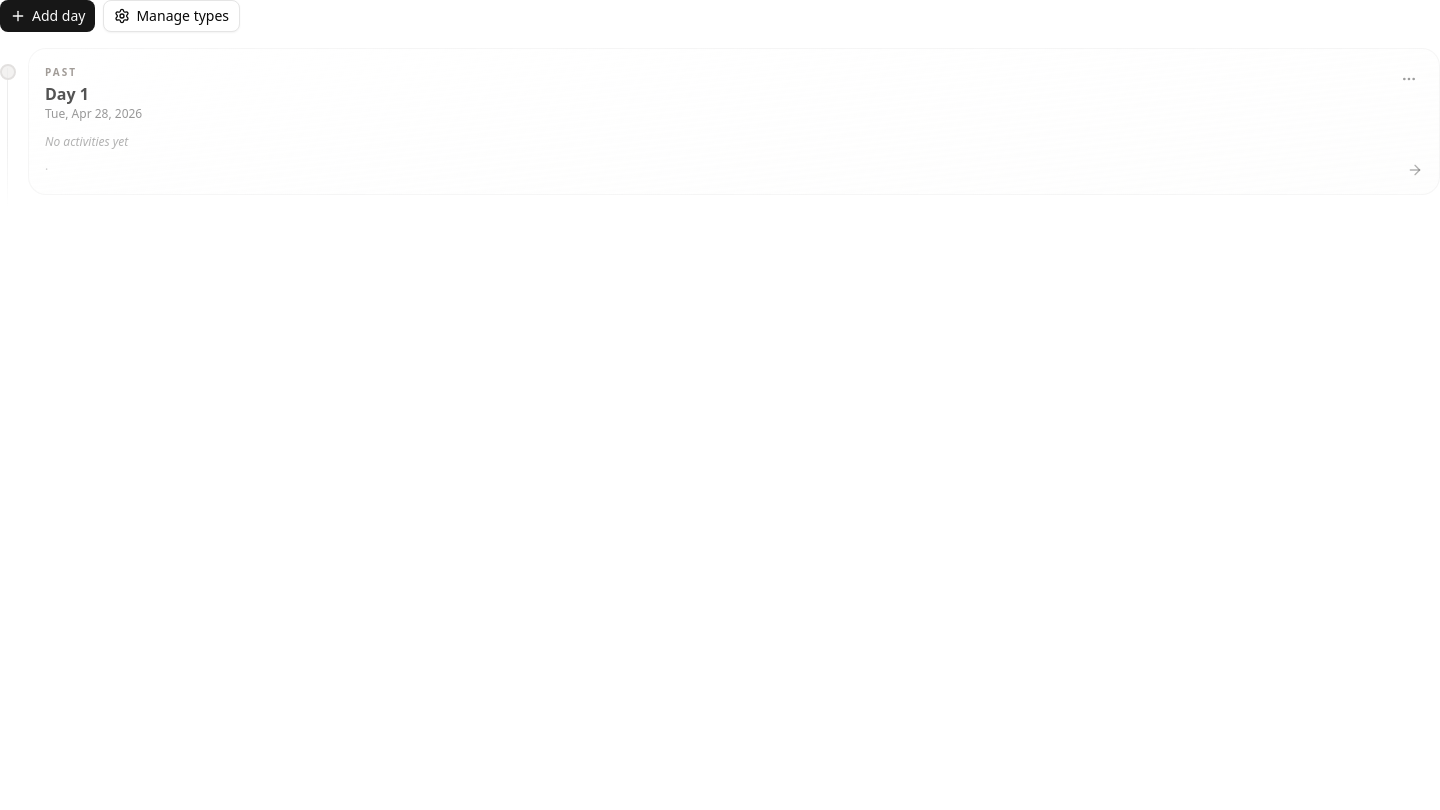
Test: TimelineTab › disables dates that already have timeline days in the day picker
Click the button "Add day". click: (48, 16)
box: [0, 0, 95, 32]
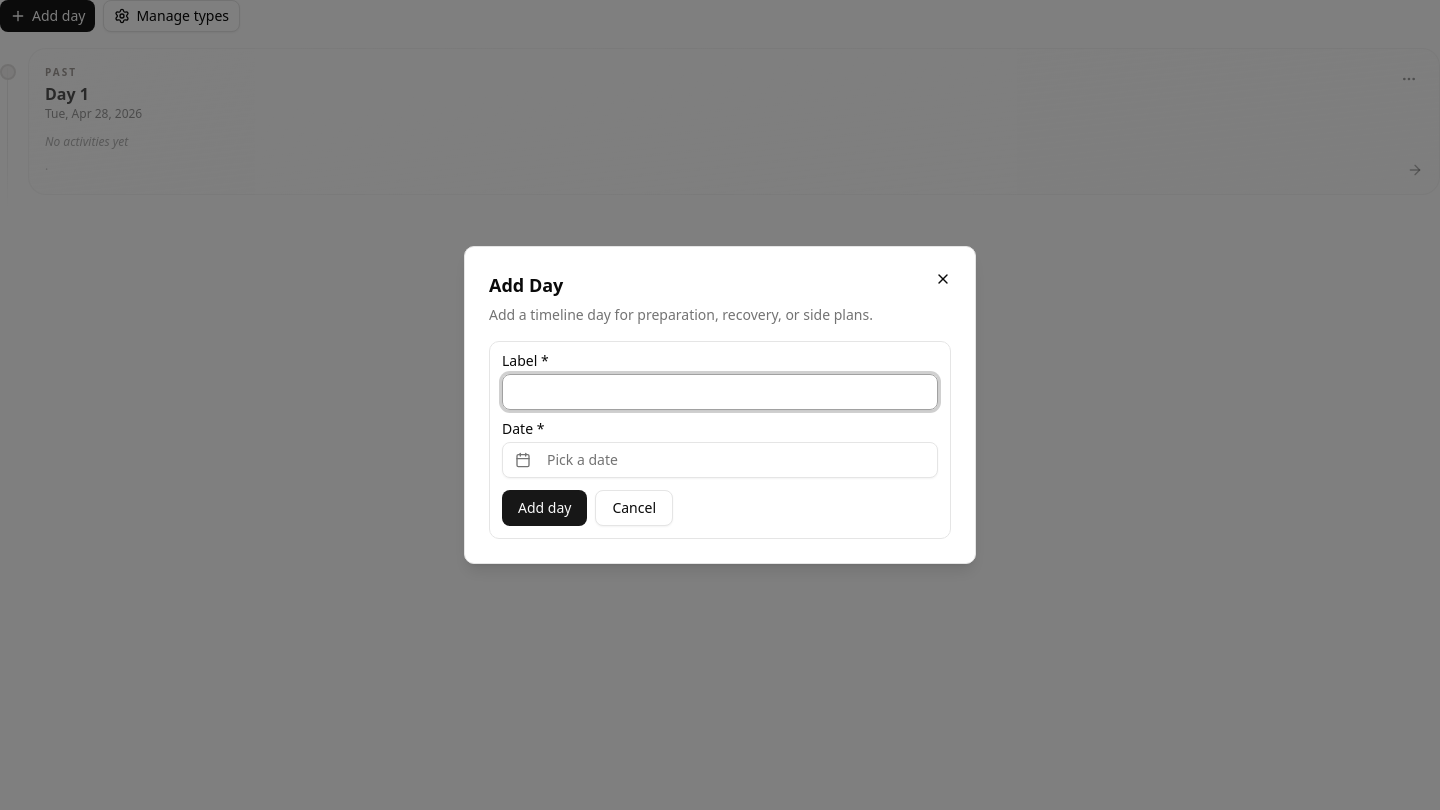
Click the button "Pick a date". click: (582, 460)
box: [502, 442, 938, 478]
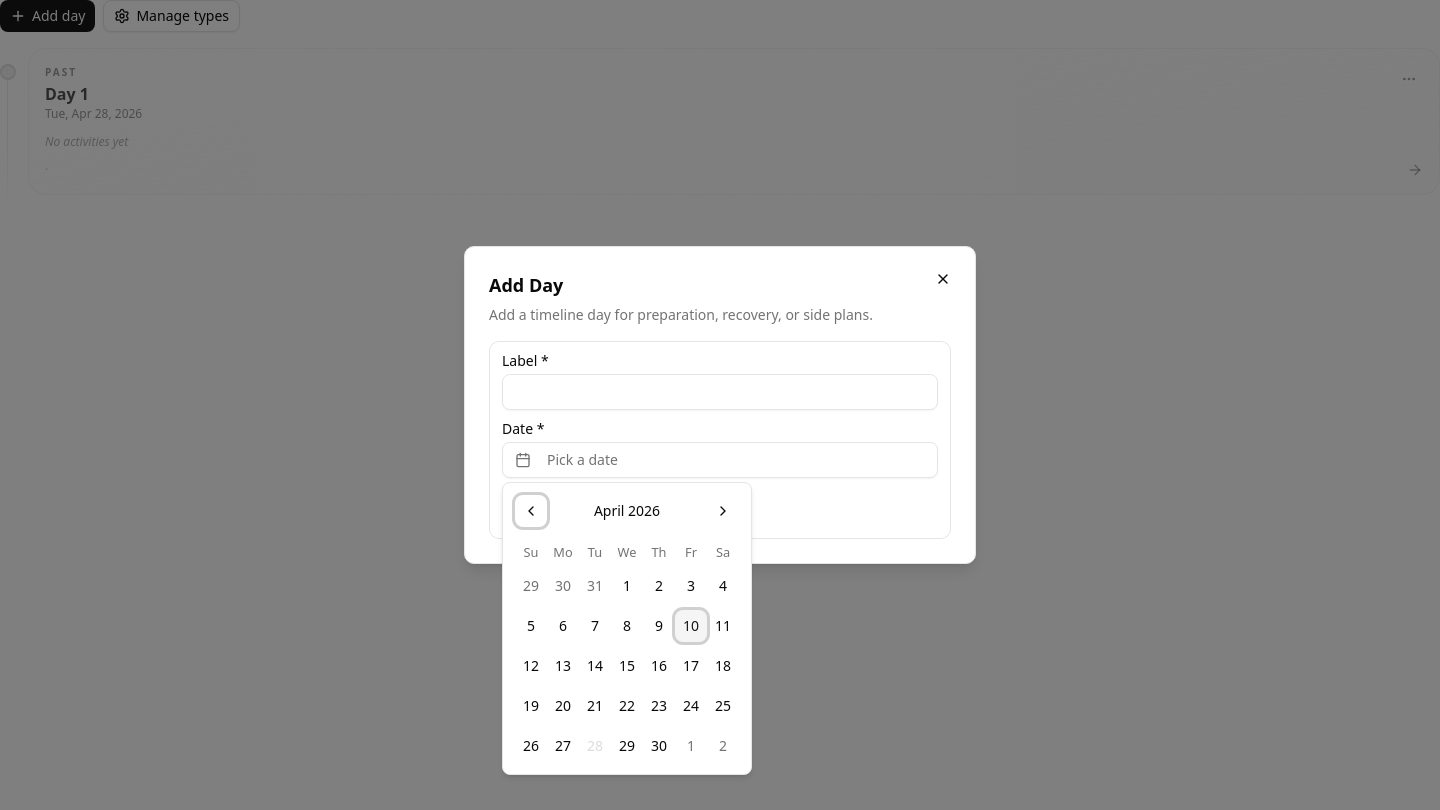
Expected: the button "28" is disabled, [579, 730, 611, 762]
